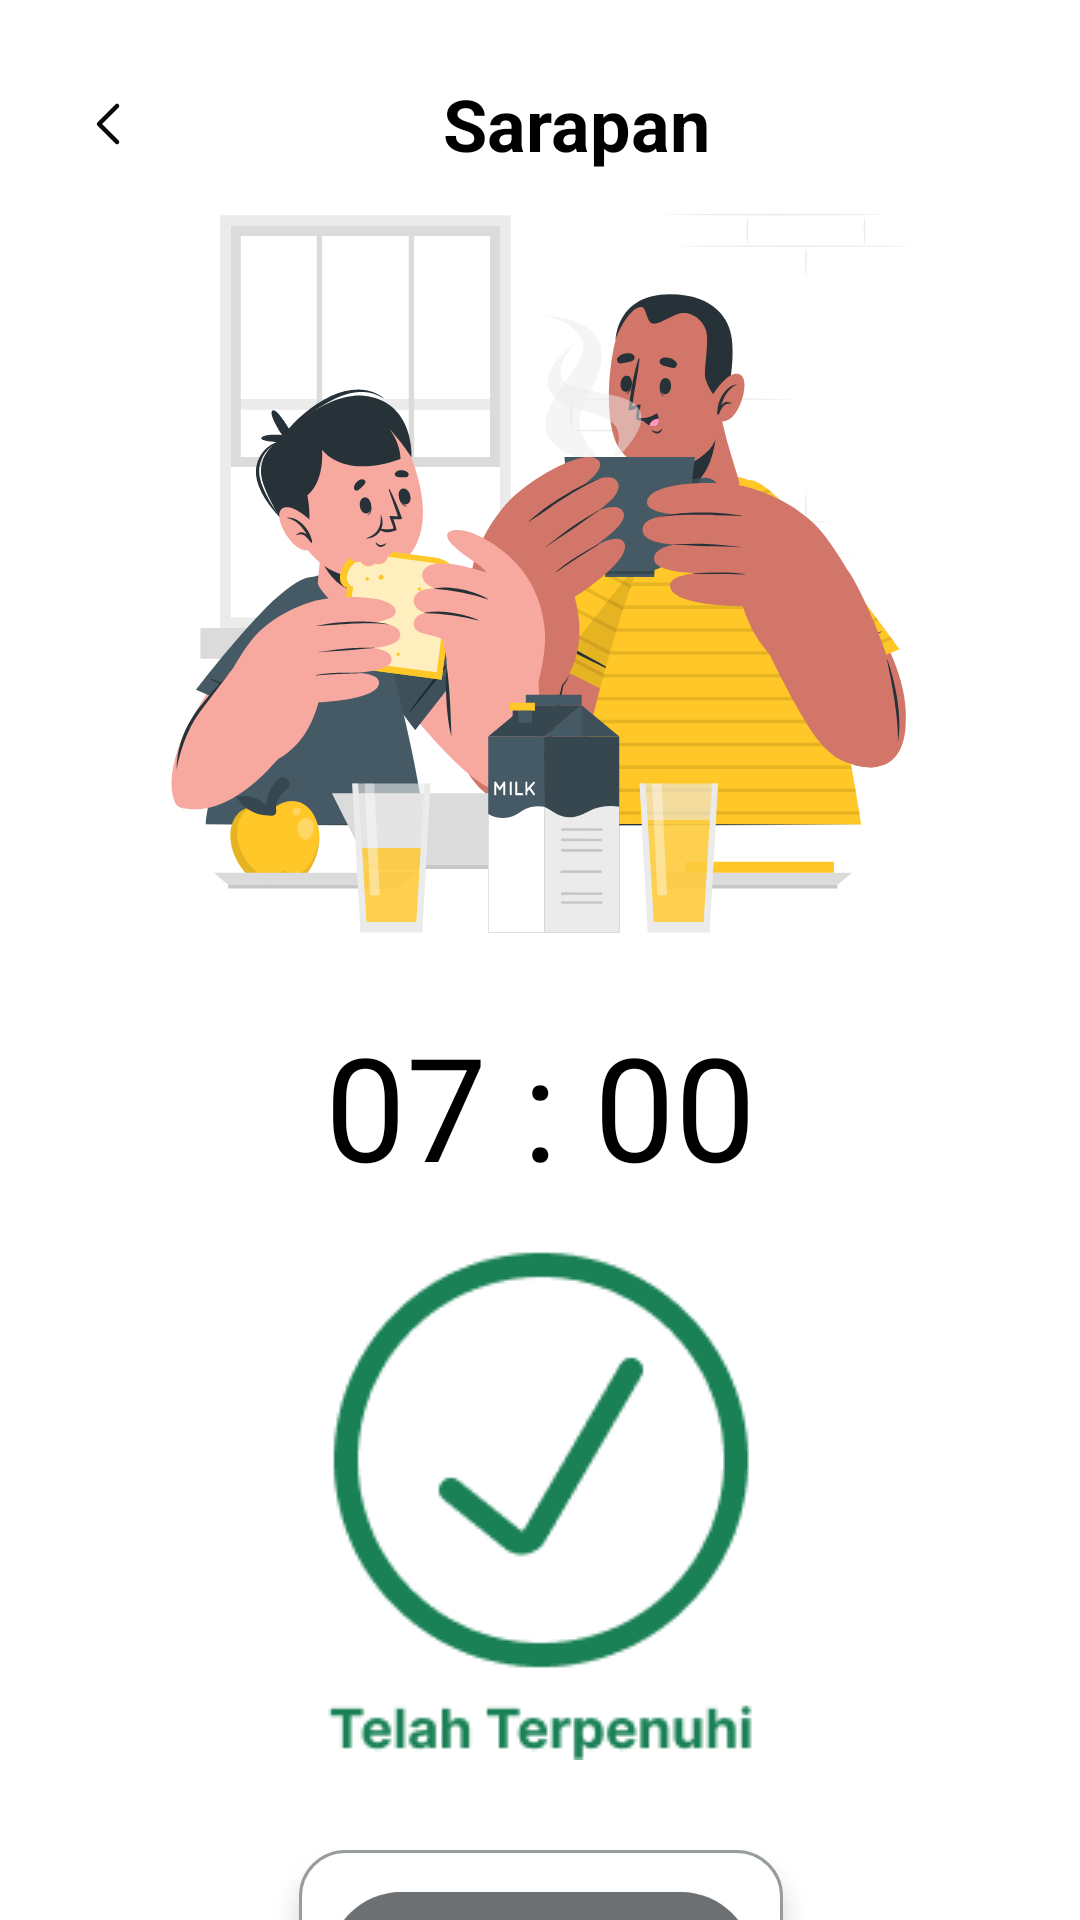

Where icons sit on this 1080×1920 app screen, as (x1, y1, x2, y2):
back: (96, 103, 120, 145)
